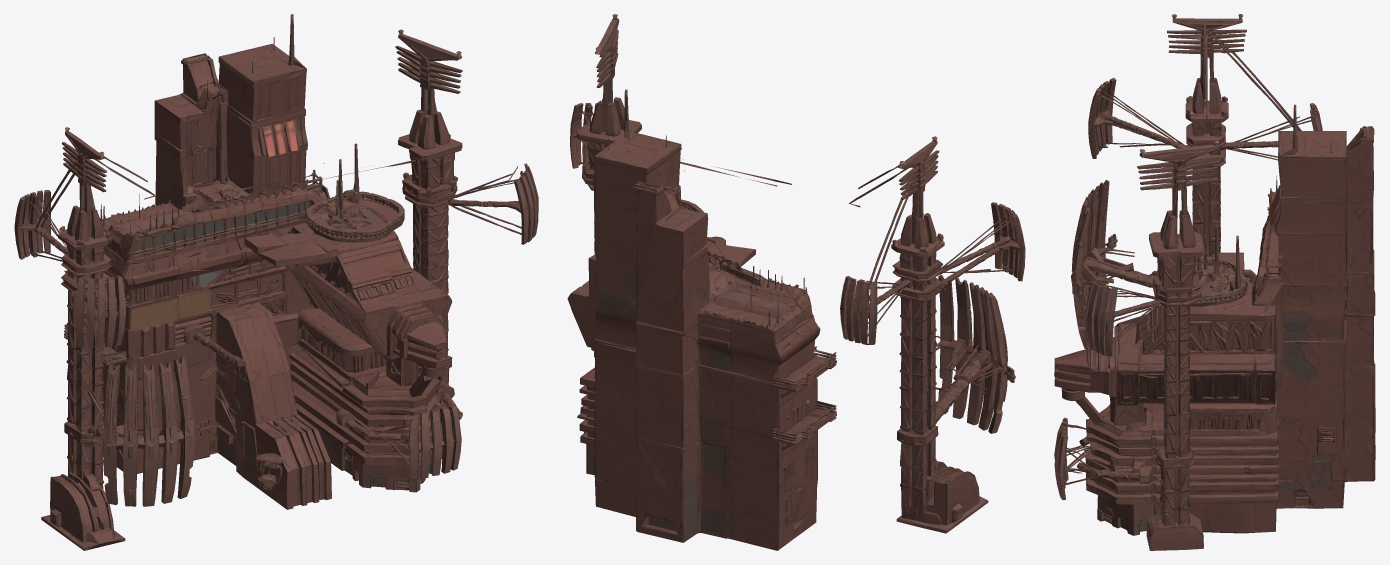
Rendered from mining.glb.
The picture shows the model from 3 angles, left to right: view 1: azimuth 30°, elevation 25°; view 2: azimuth 150°, elevation 25°; view 3: azimuth 270°, elevation 25°; orthographic projection.
Parts seen in each view (by area): view 1: mining; view 2: mining; view 3: mining.
Part boxes in pixels (x1=…): mining: x1=14, y1=14, x2=538, y2=550; mining: x1=567, y1=14, x2=1025, y2=550; mining: x1=1054, y1=14, x2=1375, y2=550.
Bounding box in the file's own units: 120 × 102 × 73.54.
Materials: 1 (1 with a texture image).
